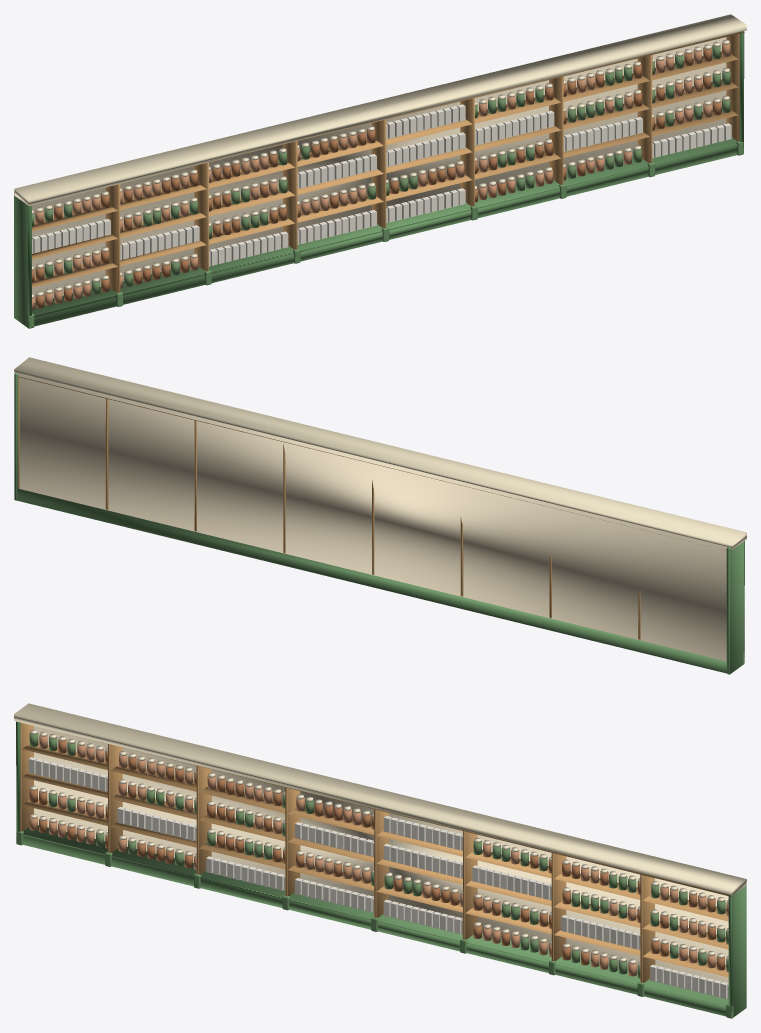
The model's file is wall_shelving.glb.
3 renders of one model, top to bottom at view 1: azimuth 30°, elevation 25°; view 2: azimuth 150°, elevation 25°; view 3: azimuth 330°, elevation 25°, orthographic.
Parts seen in each view (by area): view 1: Back, TopCap, Plinth, Shelf3, Shelf1, Shelf2, EndPanel-1, Divider1, Divider7, Divider4, Divider3, Divider6 (+5 smaller); view 2: Back, TopCap, Plinth, EndPanel-1, EndPanel1, TopCapBand; view 3: Back, TopCap, Plinth, Shelf3, Shelf1, Shelf2, EndPanel1, Divider2, Divider6, Divider7, Divider3, Divider5 (+6 smaller).
Boxes of the visible parts, x1,y1,x2,y2 form: Back: (32,37,726,302); TopCap: (14,14,746,205); Plinth: (32,138,737,326); Shelf3: (32,51,738,231); Shelf1: (32,107,738,287); Shelf2: (32,79,738,259); EndPanel-1: (14,192,28,328); Divider1: (105,184,120,292); Divider7: (637,55,652,163); Divider4: (371,119,386,227); Divider3: (283,141,297,249); Divider6: (549,76,563,184); Back: (18,374,727,661); TopCap: (14,357,746,549); Plinth: (17,488,726,673); EndPanel-1: (726,541,743,674); EndPanel1: (14,373,18,500); TopCapBand: (18,376,735,548); Back: (34,726,728,982); TopCap: (14,703,746,895); Plinth: (23,825,728,1016); Shelf3: (22,742,728,921); Shelf1: (22,798,728,977); Shelf2: (22,773,728,949); EndPanel1: (732,884,746,1018); Divider2: (196,766,211,874); Divider6: (551,853,566,961); Divider7: (640,874,655,982); Divider3: (285,787,300,896); Divider5: (462,831,477,939).
Size of the model in its own units: 10.78 by 1.88 by 0.441.
